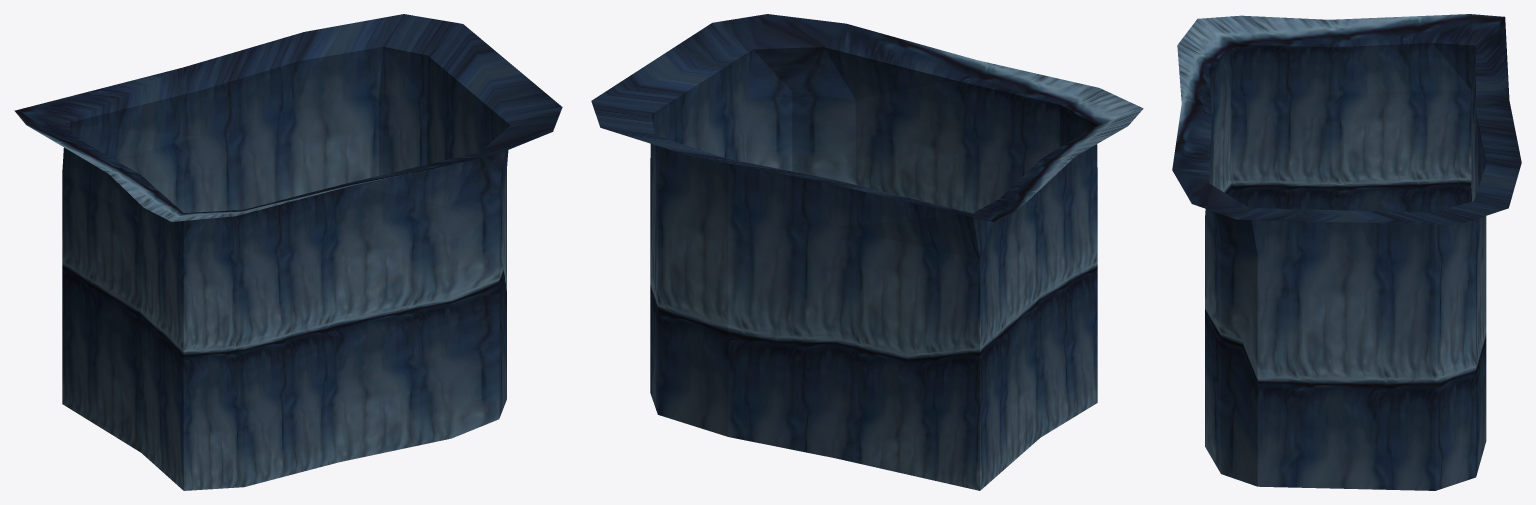
Rendered from CZPlat_2_Lat_2.gltf.
3 renders of one model, left to right at view 1: azimuth 30°, elevation 25°; view 2: azimuth 150°, elevation 25°; view 3: azimuth 270°, elevation 25°, orthographic.
Visible parts, largest first — view 1: CZPlat_2_Lat_2; view 2: CZPlat_2_Lat_2; view 3: CZPlat_2_Lat_2.
Part boxes in pixels (bbox=[...]): CZPlat_2_Lat_2: bbox=[14, 14, 562, 490]; CZPlat_2_Lat_2: bbox=[591, 14, 1143, 490]; CZPlat_2_Lat_2: bbox=[1172, 14, 1521, 490].
Size of the model in its own units: 35.67 by 22.8 by 24.97.
Materials: 1 (1 with a texture image).
